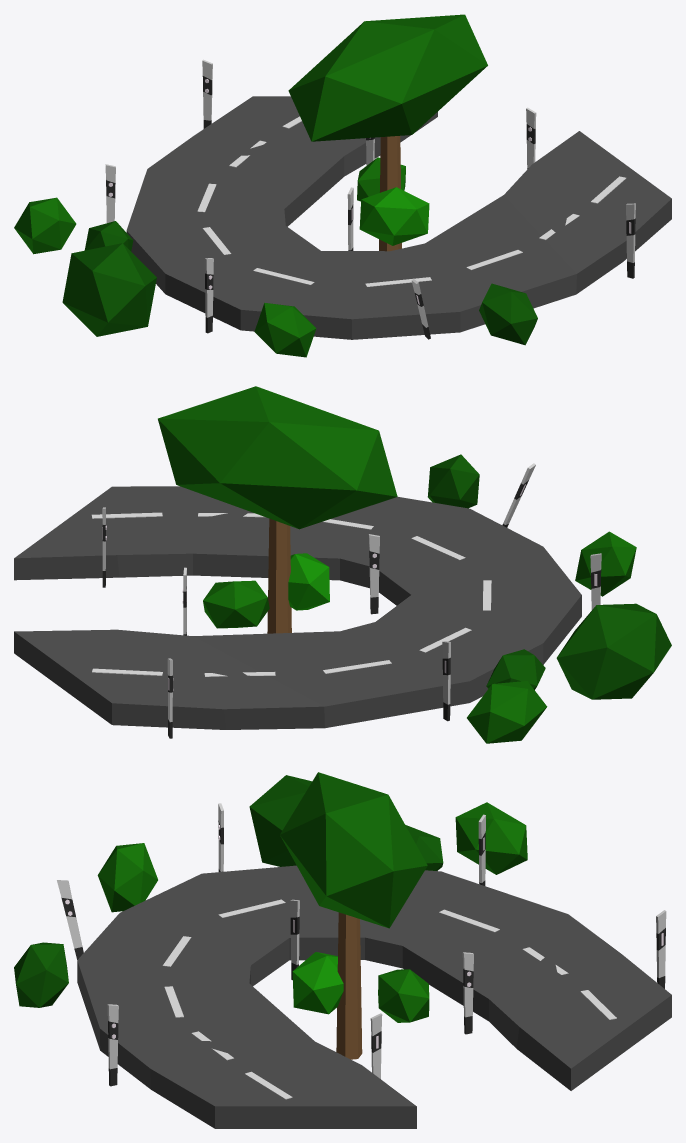
The model's file is street2_01_1.fbx.
3 views of the same model, one above another, from view 1: azimuth 30°, elevation 25°; view 2: azimuth 150°, elevation 25°; view 3: azimuth 270°, elevation 25° (orthographic). The views are drawn at different scales.
Parts seen in each view (by area): view 1: street01.001, tree, bush, bush.004, bush.002, bush.001, bush.006, bush.005, bush.003, penguin.008, penguin.010, penguin.012 (+2 smaller); view 2: street01.001, tree, bush, bush.001, bush.003, bush.006, bush.002, bush.004, bush.005, penguin.014, penguin.011, penguin.010; view 3: street01.001, tree, bush.001, bush, bush.006, bush.002, bush.004, bush.003, bush.005, penguin.008, penguin.013, penguin.009 (+3 smaller).
Part boxes in pixels (box(x1,y1,x2,y2)): street01.001: box(126, 96, 671, 339); tree: box(288, 14, 487, 251); bush: box(62, 243, 156, 336); bush.004: box(359, 187, 429, 245); bush.002: box(479, 283, 537, 345); bush.001: box(14, 197, 76, 254); bush.006: box(254, 302, 316, 357); bush.005: box(84, 221, 133, 251); bush.003: box(357, 157, 405, 201); penguin.008: box(626, 203, 635, 278); penguin.010: box(204, 258, 213, 333); penguin.012: box(202, 59, 212, 128); street01.001: box(14, 486, 581, 729); tree: box(158, 386, 397, 633); bush: box(556, 603, 671, 699); bush.001: box(467, 681, 547, 743); bush.003: box(203, 580, 269, 628); bush.006: box(575, 531, 636, 596); bush.002: box(427, 454, 479, 508); bush.004: box(288, 553, 329, 610); bush.005: box(486, 649, 545, 689); penguin.014: box(368, 534, 379, 614); penguin.011: box(442, 641, 450, 721); penguin.010: box(590, 553, 601, 610); street01.001: box(77, 865, 671, 1128); tree: box(280, 772, 427, 1059); bush.001: box(455, 802, 527, 874); bush: box(249, 775, 311, 866); bush.006: box(97, 843, 157, 912); bush.002: box(14, 942, 68, 1007); bush.004: box(292, 952, 343, 1014); bush.003: box(378, 969, 429, 1022); bush.005: box(405, 825, 443, 870); penguin.008: box(107, 1004, 118, 1086); penguin.013: box(462, 952, 473, 1034); penguin.009: box(57, 880, 83, 959).
Bounding box in the file's own units: 97.63 × 39.54 × 91.02.
